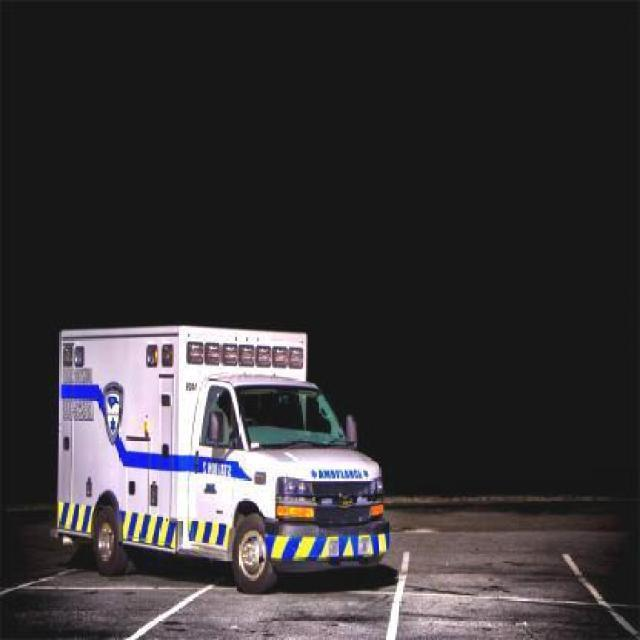emergency: (49, 322, 392, 594)
